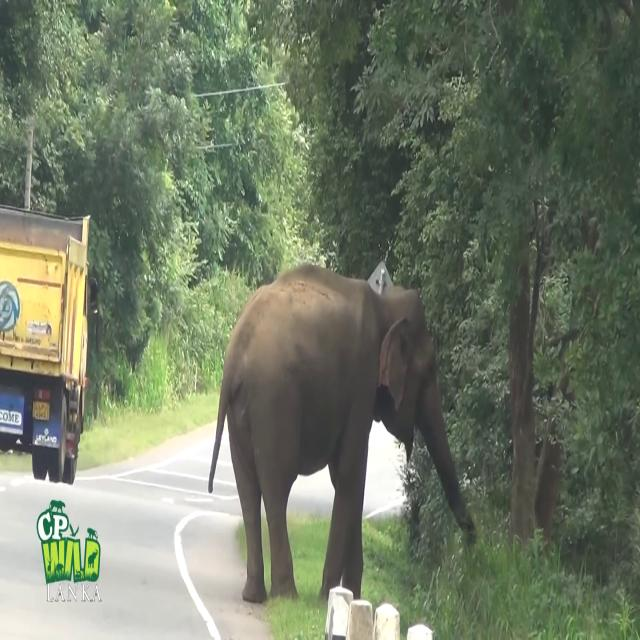Elephant: (208, 262, 478, 604)
